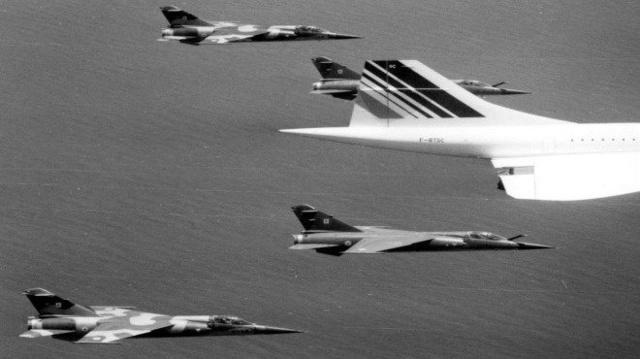airplane: (274, 64, 640, 203), (17, 286, 306, 346), (291, 214, 559, 261), (309, 58, 537, 103), (154, 14, 365, 48)
